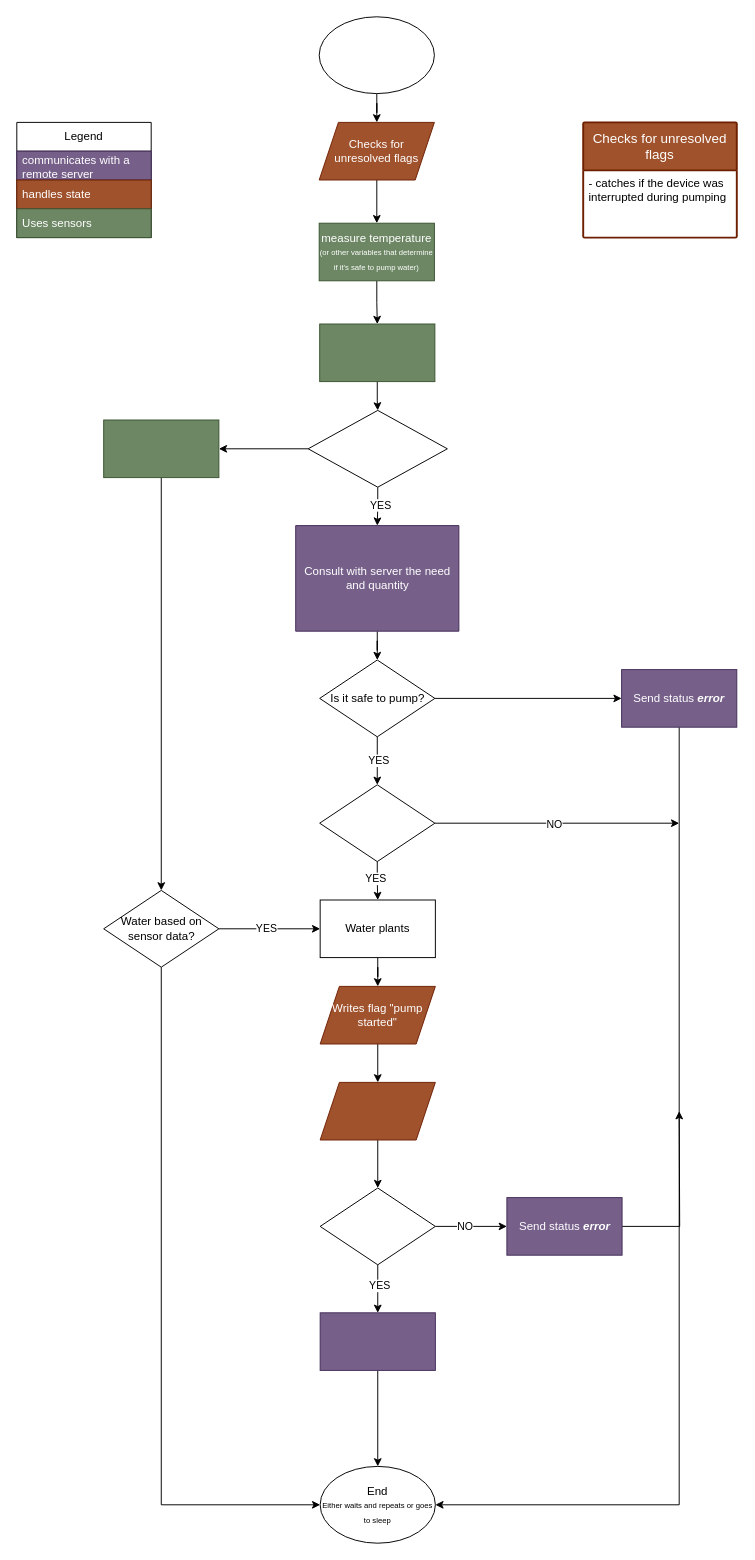
This 755x1560 diagram has some shape labels left out. Each missing label, with the centre of its shape:
Boot or sleep wakeup: [376,55]
Check sensor data: [161,448]
Is server responding?: [377,448]
measure with sensors (capacitive soil moisture): [377,352]
Need irrigation?: [377,823]
Send status ok: [377,1341]
Successful?: [377,1226]
Writes flag "pump finished": [377,1110]
